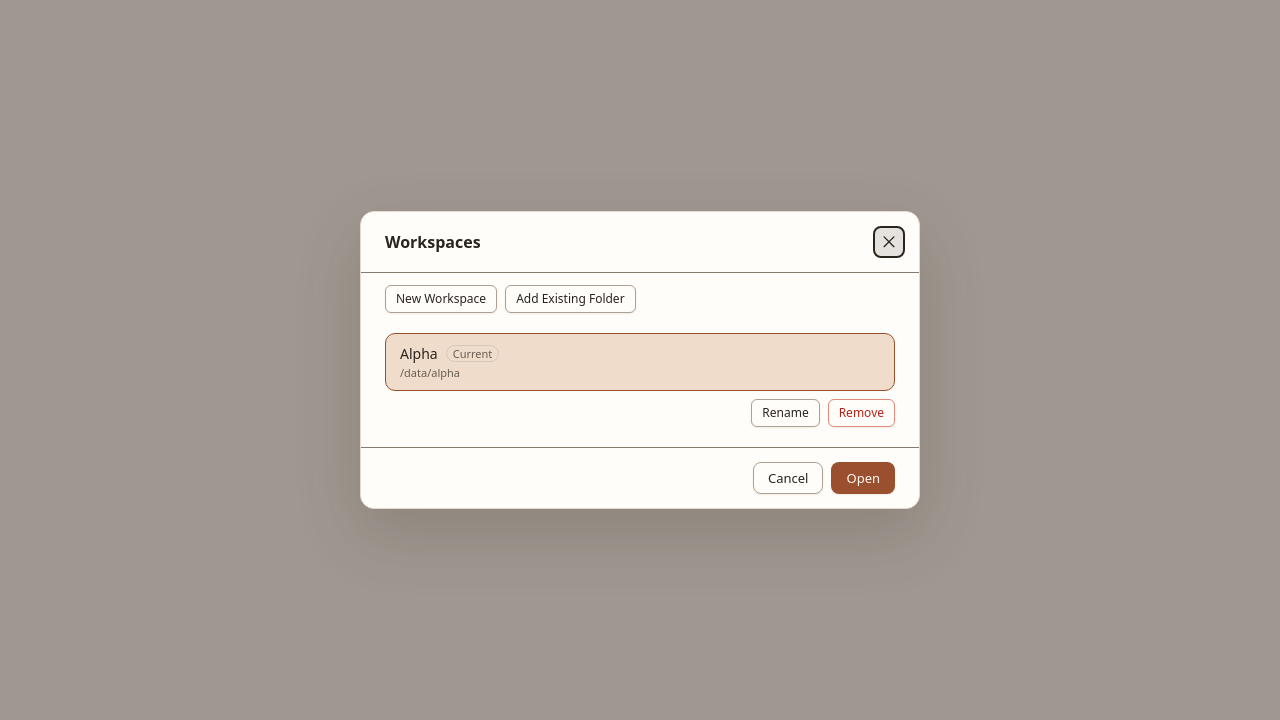
it: WorkspaceModal — New Workspace › keeps the independent default across name edits before Browse
Click the button "New Workspace".
click(441, 299)  # box x1=385 y1=285 x2=497 y2=313
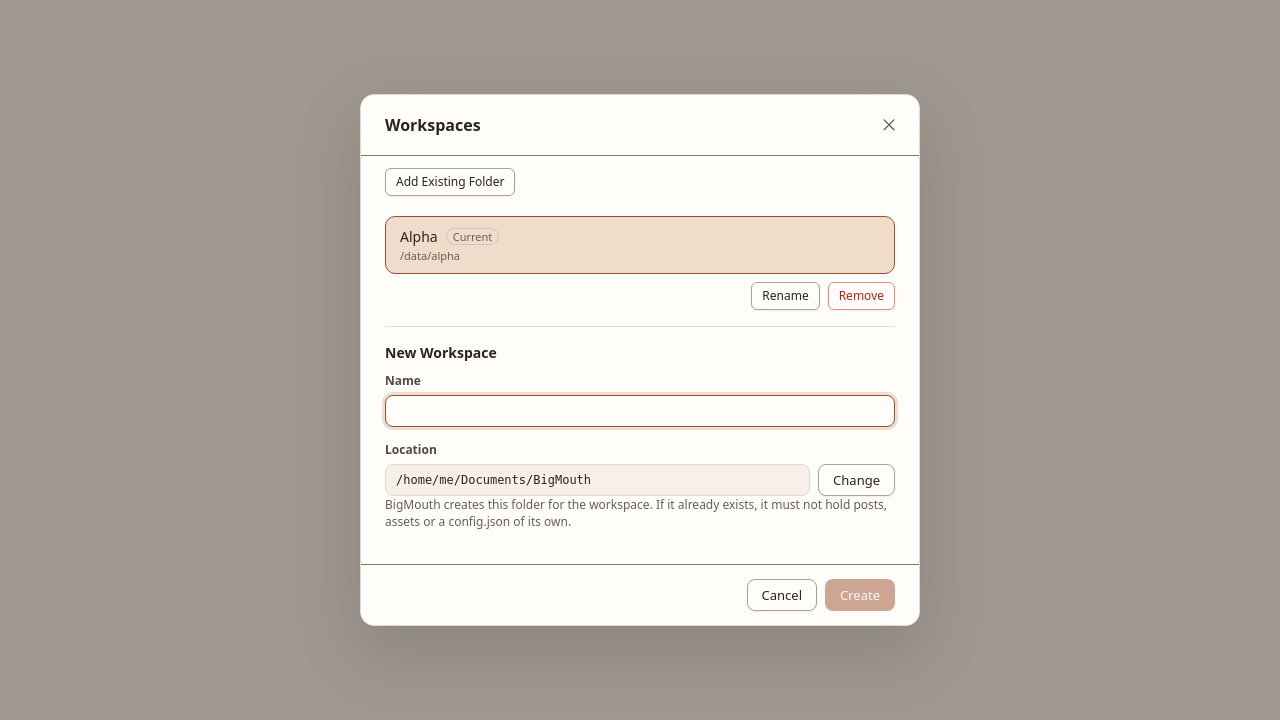
Expected: the text "New Workspace" is shown, x1=385 y1=343 x2=497 y2=362
Expected: the field labelled "Name" is empty
Expected: the button "Create" is disabled, x1=825 y1=579 x2=895 y2=611
Type "  Beta  " into the field labelled "Name".
click(640, 411); type("  Beta  ")  # box x1=385 y1=395 x2=895 y2=427
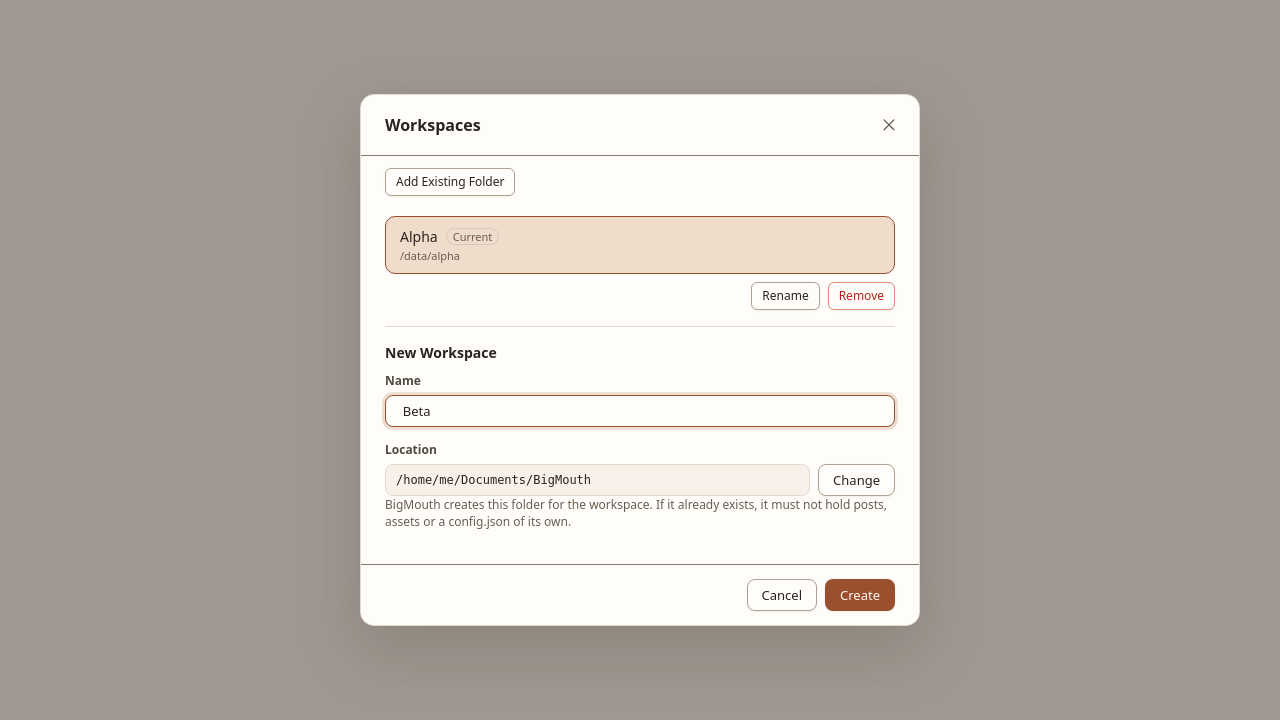
Expected: the text "/home/me/Documents/BigMouth" is shown, x1=385 y1=464 x2=810 y2=496
Expected: the button "Create" is enabled, x1=825 y1=579 x2=895 y2=611
